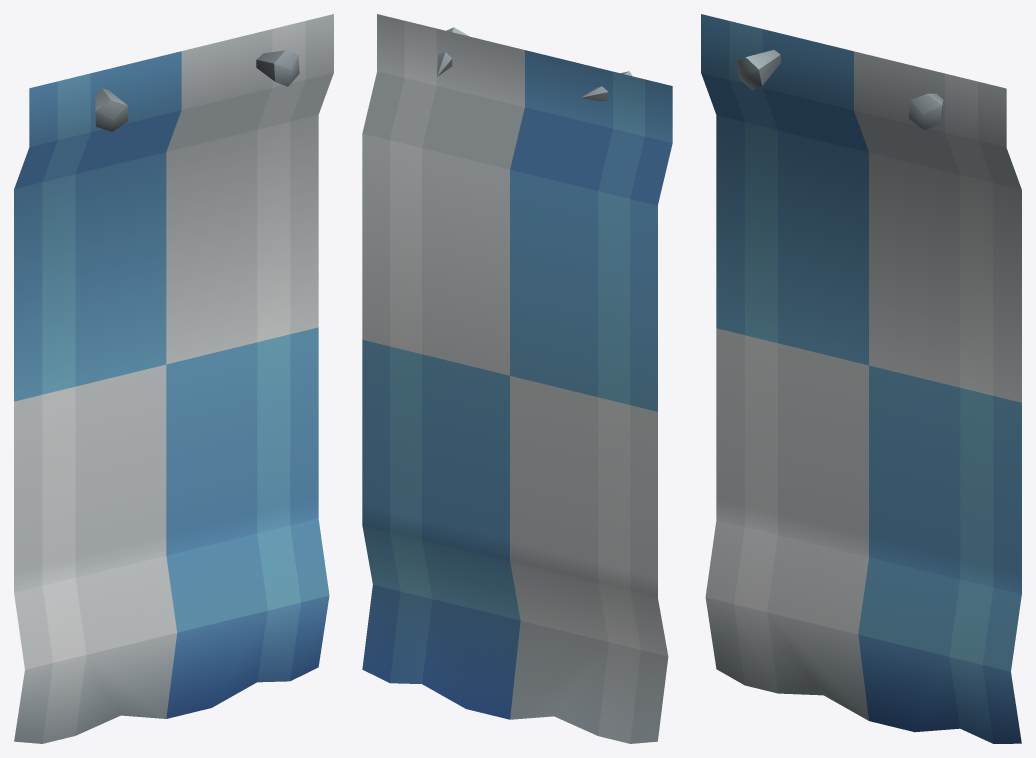
The model's file is banner_patternA_blue.gltf.
3 renders of one model, left to right at view 1: azimuth 30°, elevation 25°; view 2: azimuth 150°, elevation 25°; view 3: azimuth 330°, elevation 25°, orthographic. The views are drawn at different scales.
Parts seen in each view (by area): view 1: banner_patternA_blue; view 2: banner_patternA_blue; view 3: banner_patternA_blue.
Boxes of the visible parts, bbox=[...] form: banner_patternA_blue: bbox=[14, 14, 333, 743]; banner_patternA_blue: bbox=[362, 14, 672, 743]; banner_patternA_blue: bbox=[701, 14, 1021, 743].
Bounding box in the file's own units: 1.5 × 3.2 × 0.3119.
1 material, 1 textured.
